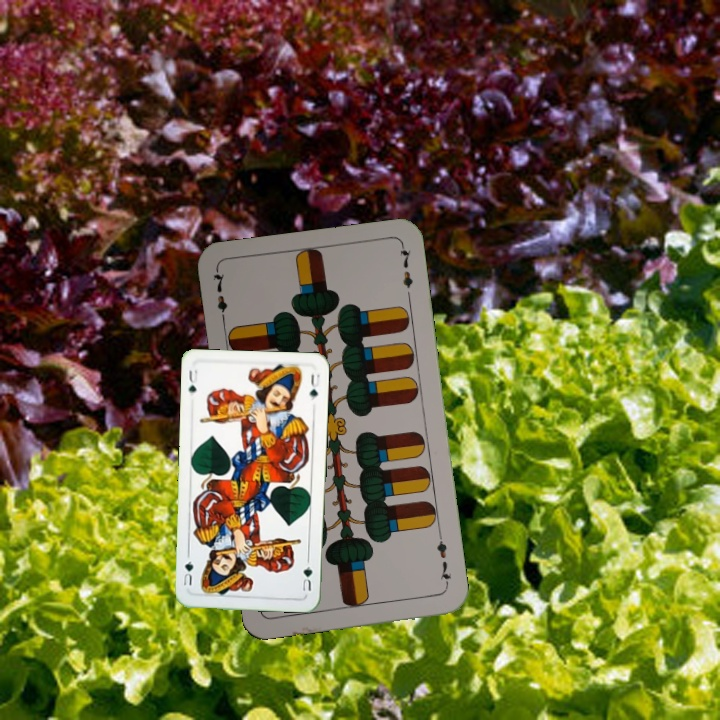E7: (432, 530, 454, 589), (210, 267, 230, 326)
GU: (298, 562, 315, 595), (185, 366, 200, 396)
